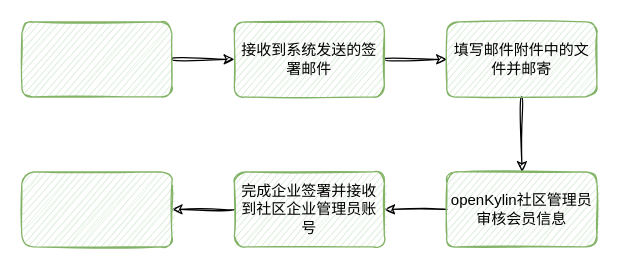
Image size: 619x269. Some labels were removed from this diagram. The shapes that lost their labels are listed below. From the top down, each one's centre as x and y in pixels, then its label:
At [96,59]: "提交企业签署相关信息".
At [96,209]: "成为openKylin社区会员".
